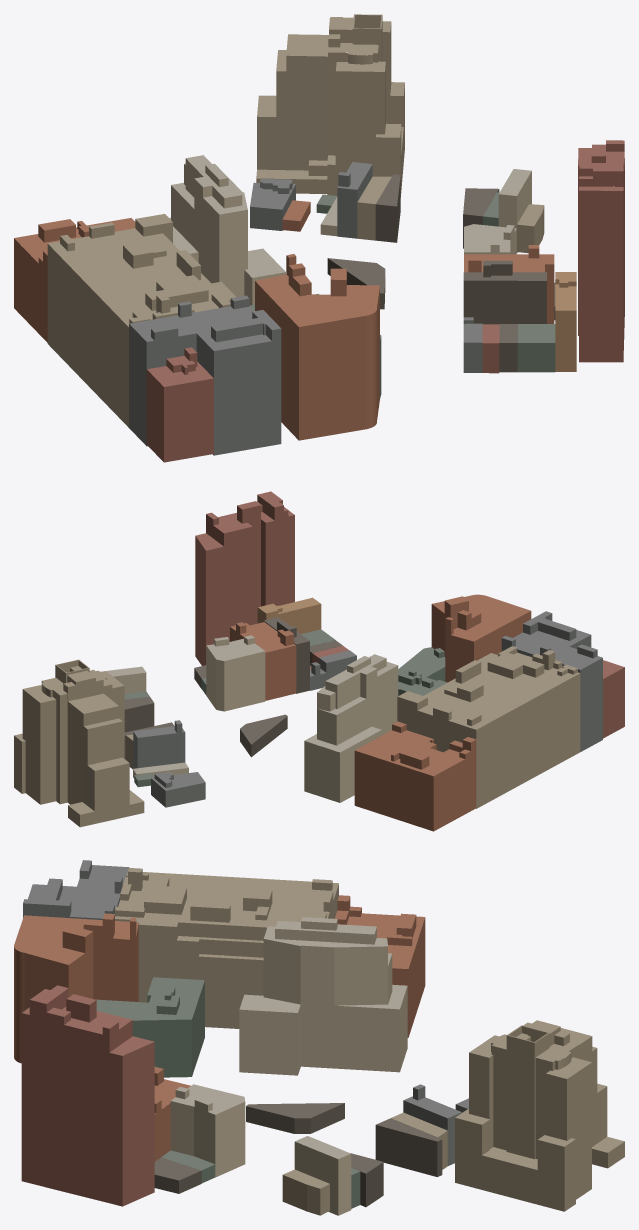
The model's file is tile--4_5.glb.
3 renders of one model, top to bottom at view 1: azimuth 30°, elevation 25°; view 2: azimuth 150°, elevation 25°; view 3: azimuth 270°, elevation 25°, orthographic. The views are drawn at different scales.
Parts seen in each view (by area): view 1: wall, roof; view 2: wall, roof; view 3: wall, roof.
Part boxes in pixels (x1,y1,x2,y2): wall: [14, 15, 624, 462]; roof: [14, 14, 624, 386]; wall: [14, 495, 624, 831]; roof: [14, 491, 624, 814]; wall: [14, 861, 624, 1215]; roof: [14, 860, 624, 1188].
Size of the model in its own units: 205 by 71.29 by 211.
